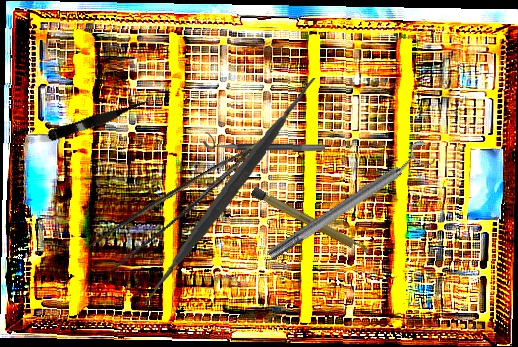Fixation Ring: (260, 137, 439, 268), (202, 131, 326, 153)
Micro Scissor: (45, 95, 156, 145)
Scalpel Handle: (250, 186, 372, 258)
Spatula Surgical: (112, 76, 345, 306)
Tissue Forceps: (79, 137, 284, 278)
